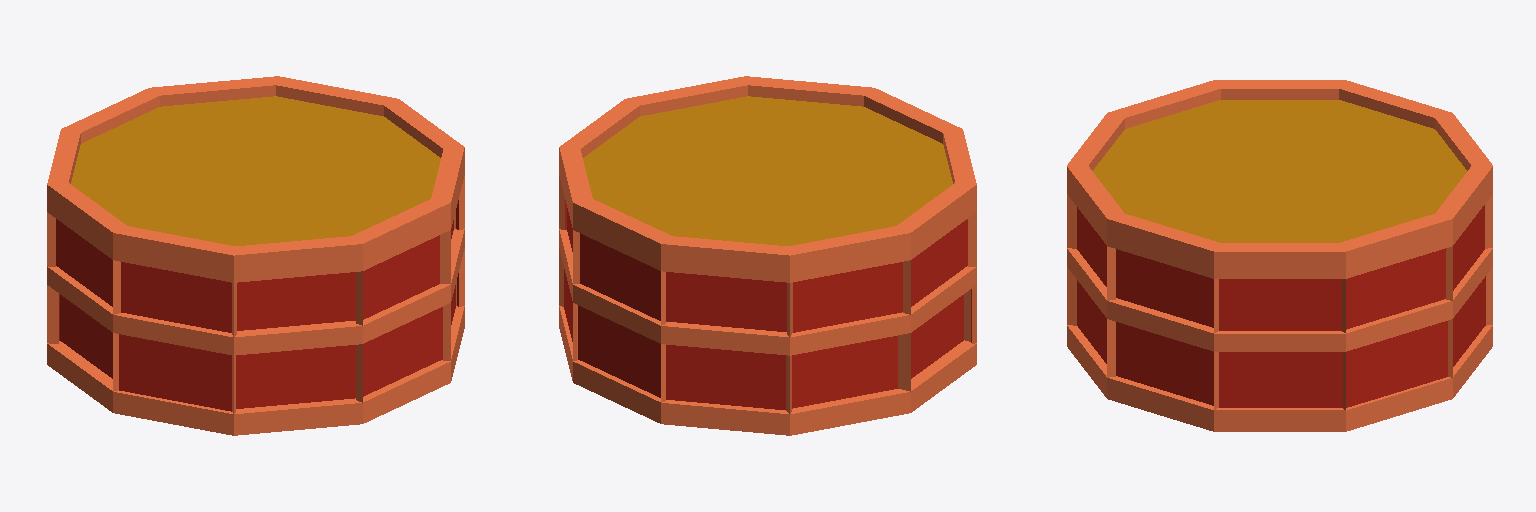
The model's file is Tambor_01.obj.
3 renders of one model, left to right at view 1: azimuth 30°, elevation 25°; view 2: azimuth 150°, elevation 25°; view 3: azimuth 270°, elevation 25°, orthographic.
Parts seen in each view (by area): view 1: Cylinder_Cylinder.007; view 2: Cylinder_Cylinder.007; view 3: Cylinder_Cylinder.007.
Boxes of the visible parts, <box> form: Cylinder_Cylinder.007: <box>47,76,464,435</box>; Cylinder_Cylinder.007: <box>559,76,976,435</box>; Cylinder_Cylinder.007: <box>1067,80,1492,431</box>.
Bounding box in the file's own units: 5.12 × 2.51 × 5.39.